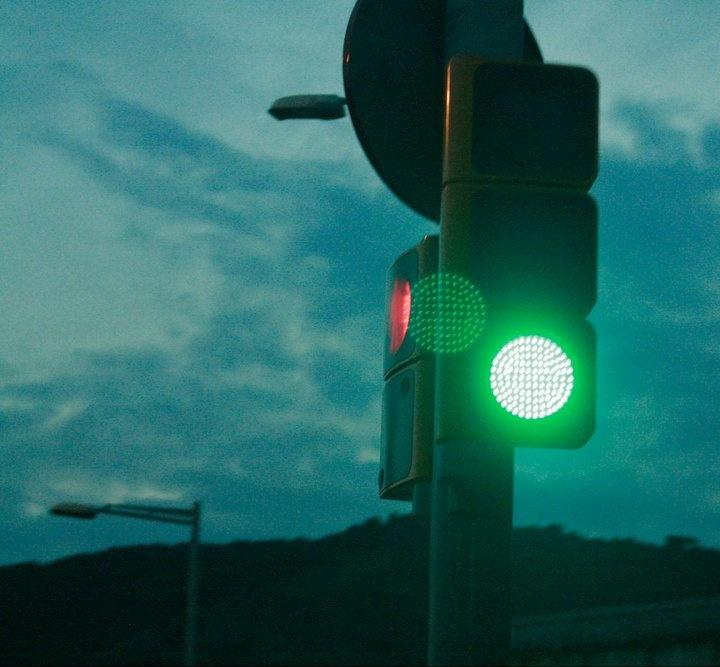Traffic light green: (467, 57, 632, 477)
